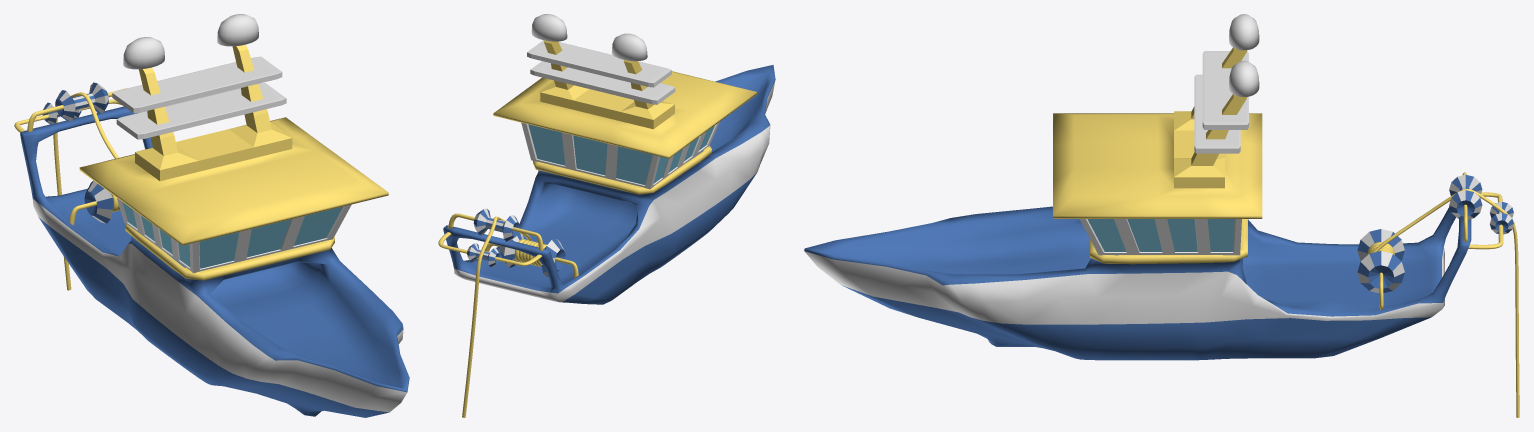
The model's file is Boat.fbx.
3 views of the same model, side by side, from view 1: azimuth 30°, elevation 25°; view 2: azimuth 150°, elevation 25°; view 3: azimuth 270°, elevation 25° (orthographic). The views are drawn at different scales.
Parts seen in each view (by area): view 1: Boat; view 2: Boat; view 3: Boat.
Part boxes in pixels (box(x1,y1,x2,y2)): Boat: box(14, 14, 409, 417); Boat: box(438, 14, 775, 417); Boat: box(804, 14, 1519, 417).
Bounding box in the file's own units: 454 × 767 × 1342.
